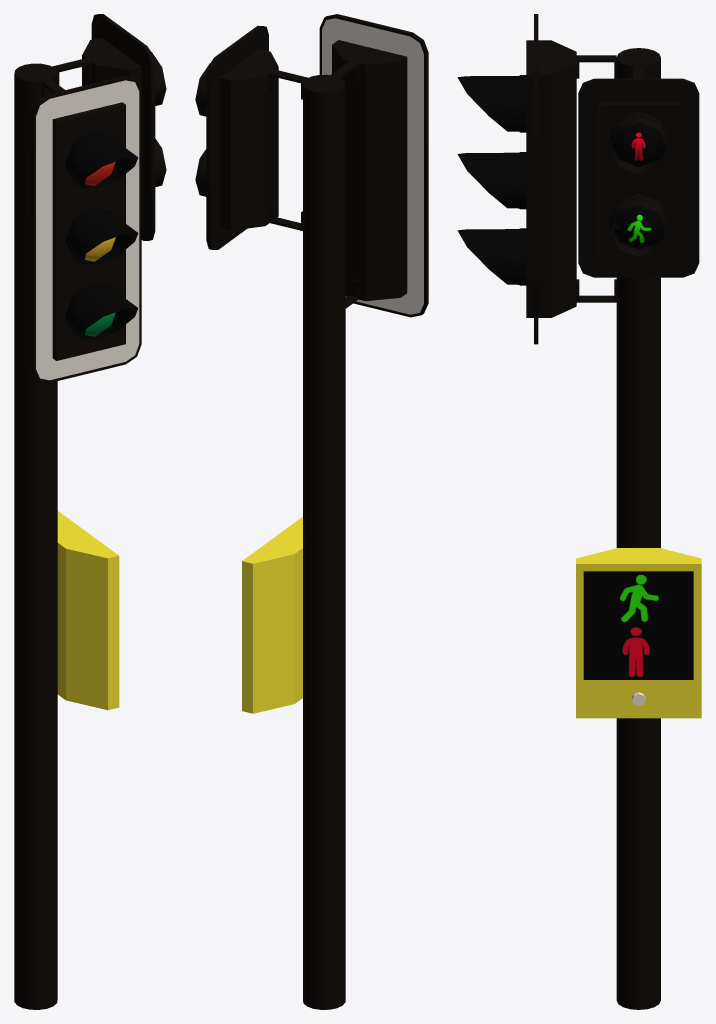
Rendered from TrafficLight.fbx.
3 views of the same model, side by side, from view 1: azimuth 30°, elevation 25°; view 2: azimuth 150°, elevation 25°; view 3: azimuth 270°, elevation 25° (orthographic). The views are drawn at different scales.
Parts seen in each view (by area): view 1: Cylinder.011, Cube.005, Cube.003, Cube.004, Cylinder.008, Cylinder.009, Cylinder.010, Cylinder.007, Cylinder.006; view 2: Cylinder.011, Cube.005, Cube.004, Cube.003; view 3: Cylinder.011, Cube.003, Cube.004, Cube.005, Cylinder.007, Cylinder.006, Cylinder.008, Cylinder.009, Cylinder.010.
Boxes of the visible parts, left/top/right/bottom form: Cylinder.011: left=14, top=63, right=57, bottom=1009; Cube.005: left=31, top=76, right=141, bottom=382; Cube.003: left=57, top=511, right=119, bottom=710; Cube.004: left=52, top=14, right=155, bottom=240; Cylinder.008: left=65, top=207, right=138, bottom=264; Cylinder.009: left=65, top=282, right=138, bottom=339; Cylinder.010: left=65, top=131, right=138, bottom=188; Cylinder.007: left=151, top=52, right=166, bottom=105; Cylinder.006: left=155, top=138, right=166, bottom=187; Cylinder.011: left=303, top=74, right=345, bottom=1009; Cube.005: left=319, top=14, right=428, bottom=317; Cube.004: left=206, top=25, right=307, bottom=249; Cube.003: left=242, top=516, right=302, bottom=713; Cylinder.011: left=616, top=48, right=660, bottom=1009; Cube.003: left=576, top=548, right=701, bottom=718; Cube.004: left=578, top=67, right=699, bottom=277; Cube.005: left=526, top=14, right=616, bottom=344; Cylinder.007: left=608, top=111, right=669, bottom=175; Cylinder.006: left=608, top=194, right=669, bottom=258; Cylinder.008: left=457, top=152, right=526, bottom=209; Cylinder.009: left=457, top=228, right=526, bottom=285; Cylinder.010: left=457, top=75, right=526, bottom=132.
Size of the model in its own units: 85.57 by 458 by 105.
